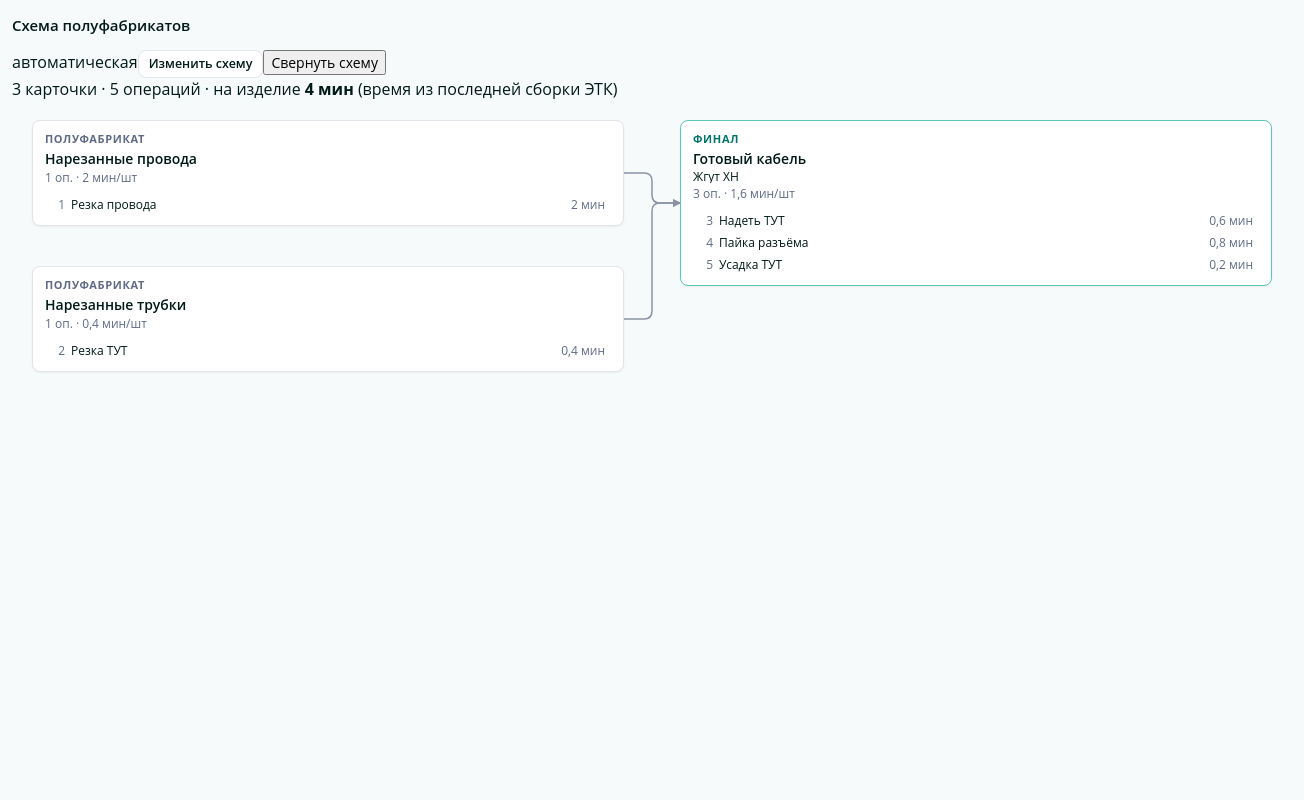
Test: ignores a quantity that is not a positive number
Click the button "3 Надеть ТУТ 0,6 мин". click: (752, 220)
box: [687, 209, 1265, 231]
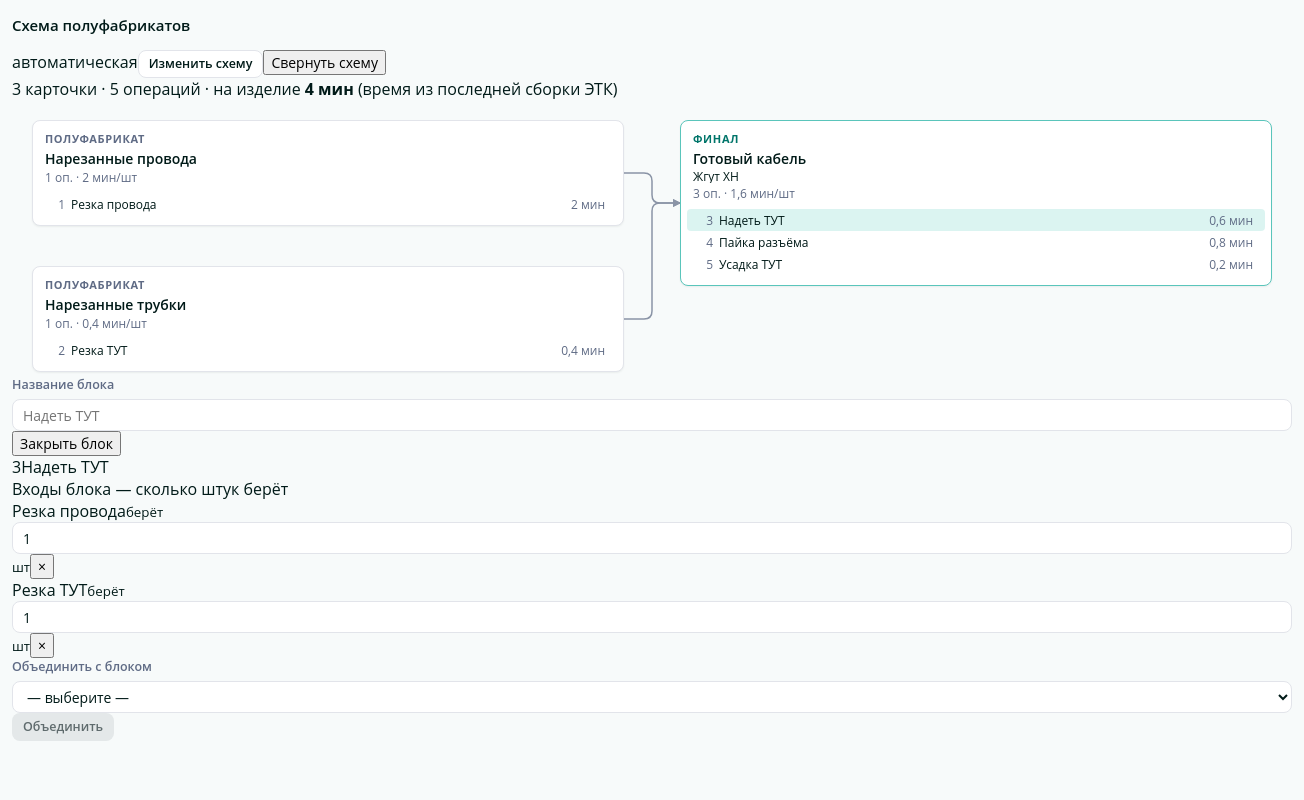
Replace the text in the field named "Штук из «Резка ТУТ» на один «Надеть ТУТ»" with "0". click: (652, 617)
box: [12, 601, 1292, 633]
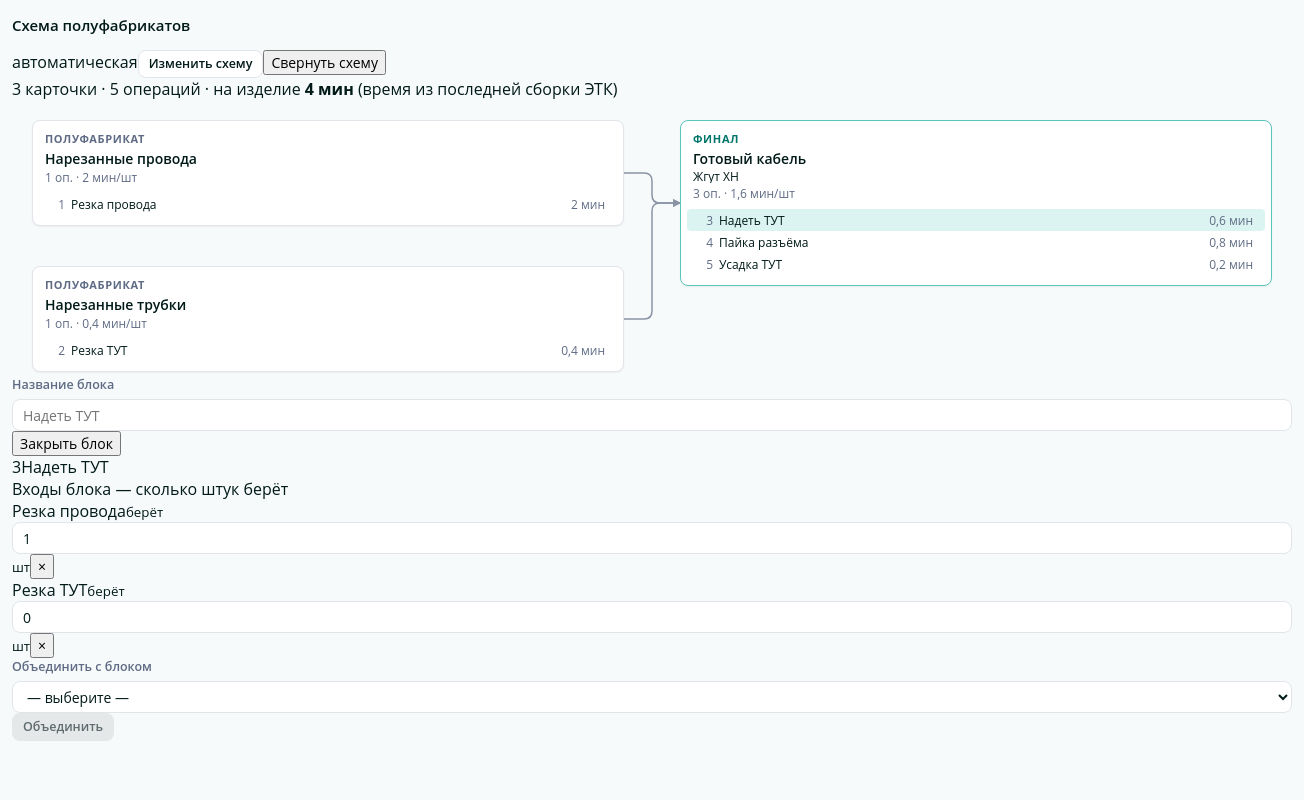
Replace the text in the field named "Штук из «Резка ТУТ» на один «Надеть ТУТ»" with "abc". click: (652, 617)
box: [12, 601, 1292, 633]
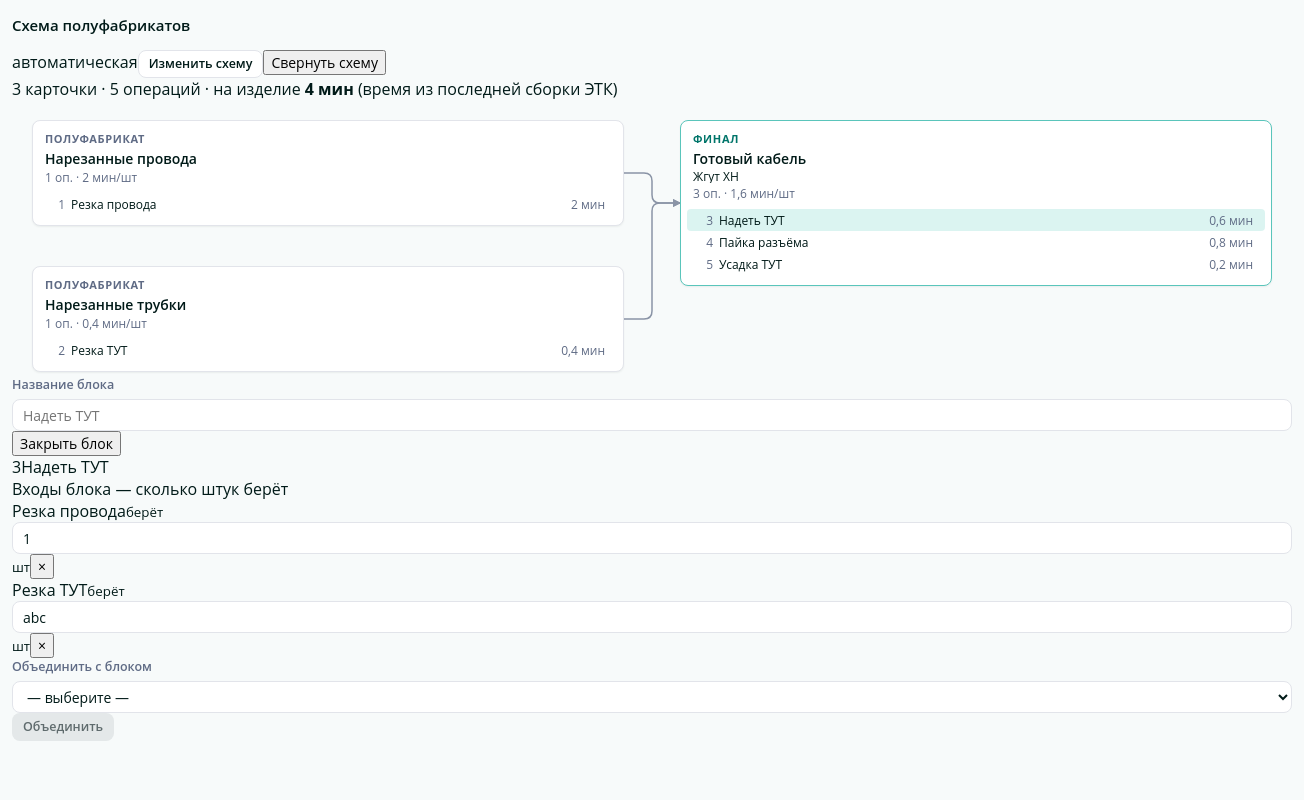
Leave the field named "Штук из «Резка ТУТ» на один «Надеть ТУТ»", box [12, 601, 1292, 633]
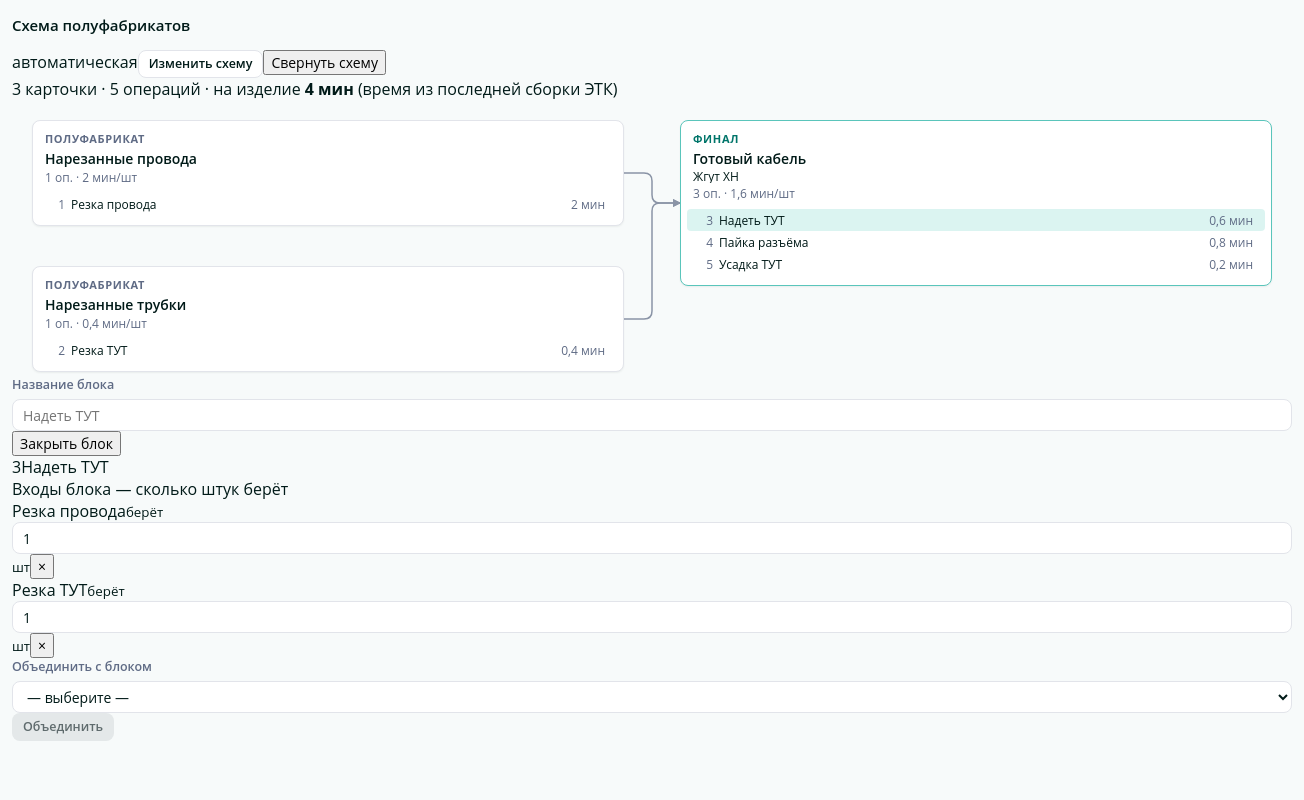
Now the field named "Штук из «Резка ТУТ» на один «Надеть ТУТ»" holds "1", box [12, 601, 1292, 633]
